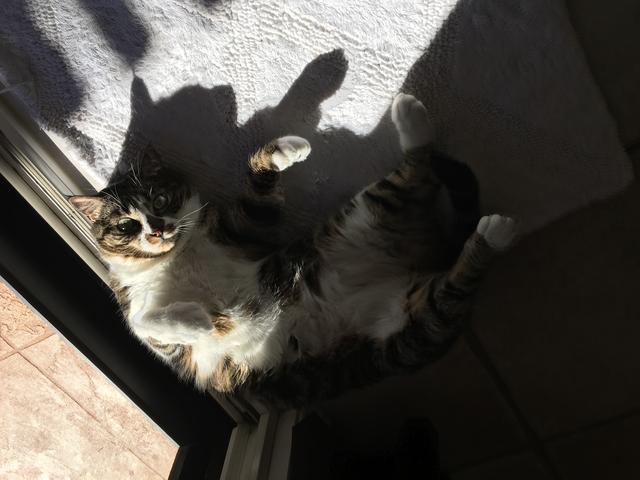playdoh: (66, 90, 521, 391)
